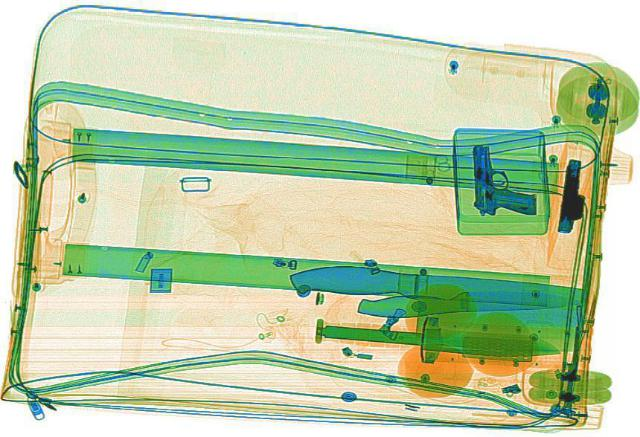Gun: (468, 142, 536, 216), (554, 158, 592, 231)
Knife: (272, 257, 586, 357), (316, 315, 562, 360), (355, 285, 581, 317)
